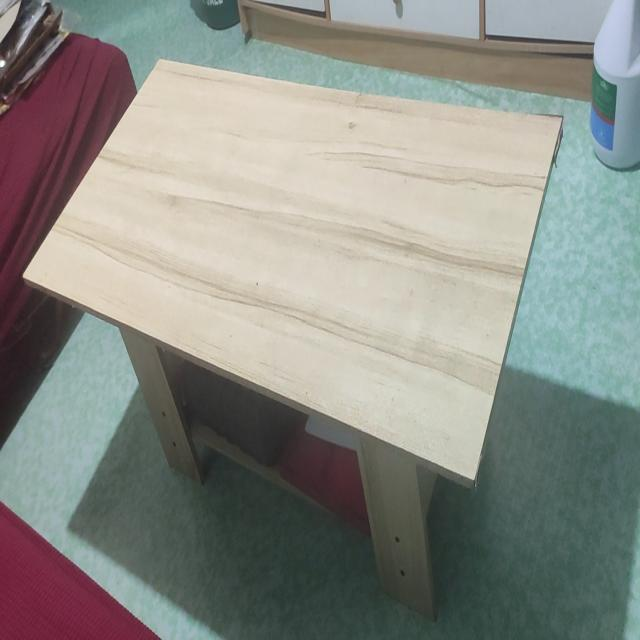table: (19, 55, 565, 621)
